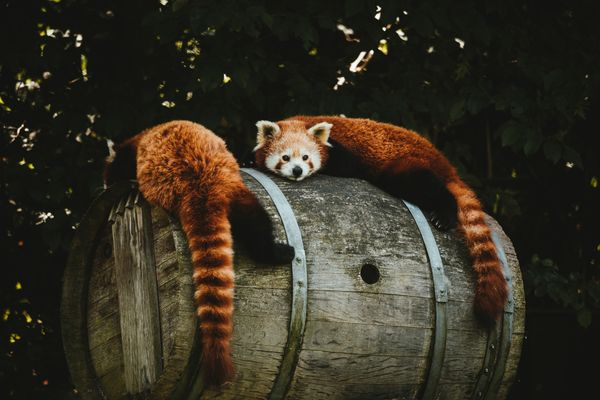red_panda: (252, 114, 510, 333), (101, 118, 296, 387)
